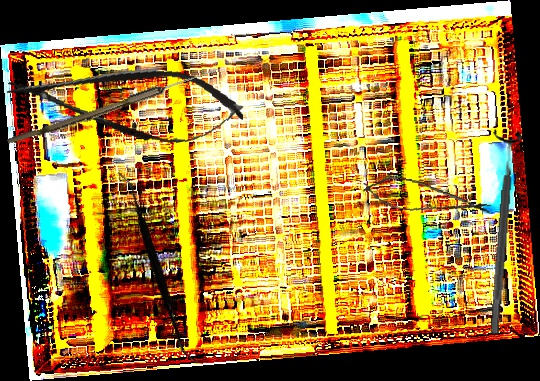Fixation Ring: (478, 128, 524, 337)
Micro Scissor: (3, 50, 248, 154), (358, 171, 496, 224)
Spatula Surgical: (55, 170, 261, 365)
Surgical Spoon: (6, 63, 220, 150)
